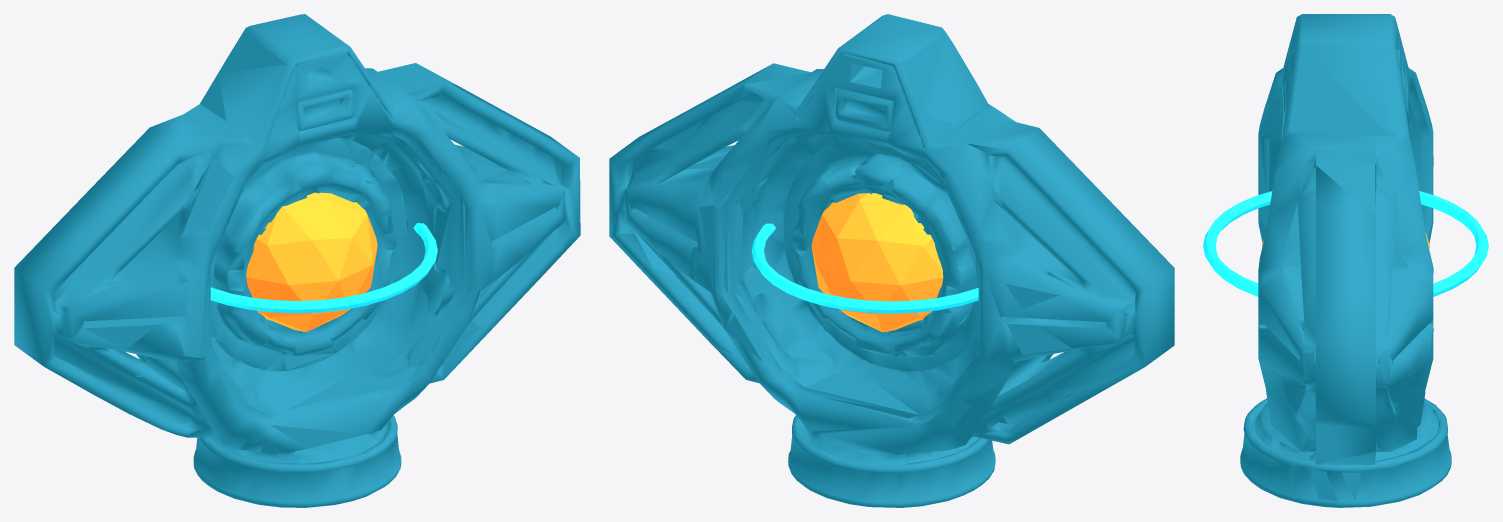
Rendered from pickup-credit-meshy.glb.
3 renders of one model, left to right at view 1: azimuth 30°, elevation 25°; view 2: azimuth 150°, elevation 25°; view 3: azimuth 270°, elevation 25°, orthographic.
Visible parts, largest first — view 1: ContainmentShell, EnergyCore, EnergyOrbit1; view 2: ContainmentShell, EnergyCore, EnergyOrbit1; view 3: ContainmentShell, EnergyOrbit1.
Part boxes in pixels (x1=…): ContainmentShell: x1=14, y1=14, x2=580, y2=507; EnergyCore: x1=246, y1=192, x2=377, y2=331; EnergyOrbit1: x1=210, y1=223, x2=437, y2=313; ContainmentShell: x1=609, y1=14, x2=1174, y2=507; EnergyCore: x1=811, y1=193, x2=943, y2=332; EnergyOrbit1: x1=751, y1=223, x2=978, y2=313; ContainmentShell: x1=1240, y1=14, x2=1451, y2=507; EnergyOrbit1: x1=1203, y1=191, x2=1488, y2=296.
Size of the model in its own units: 1.8 by 1.38 by 0.816.
